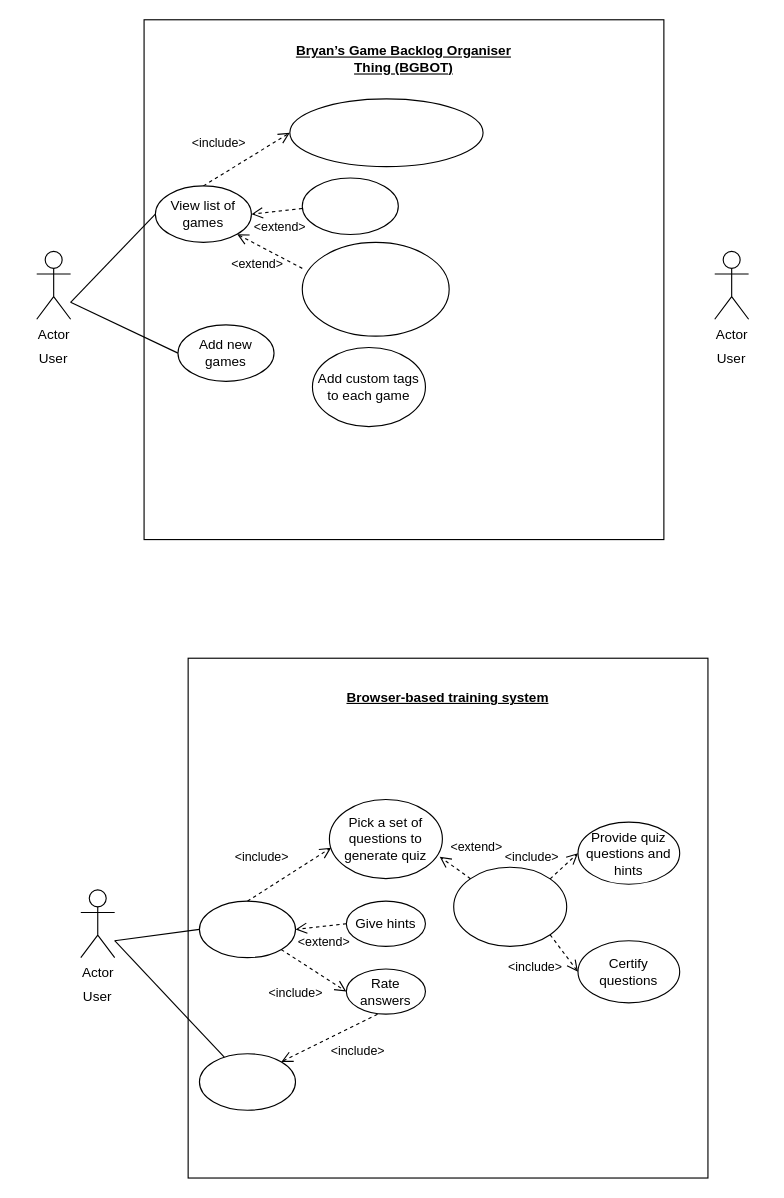
Image size: 784x1198. Some labels were removed from this diagram. Here are the shapes that lost their labels. From the top down, the centre of each, then its label:
point 386,132: Generate list of games from database of games
point 349,205: Add new playlist of games
point 375,288: Filter list of games (platform, genre, custom tags)
point 510,906: Create a list of questions with hints
point 246,929: Request quiz to do
point 246,1081: Review quiz results
